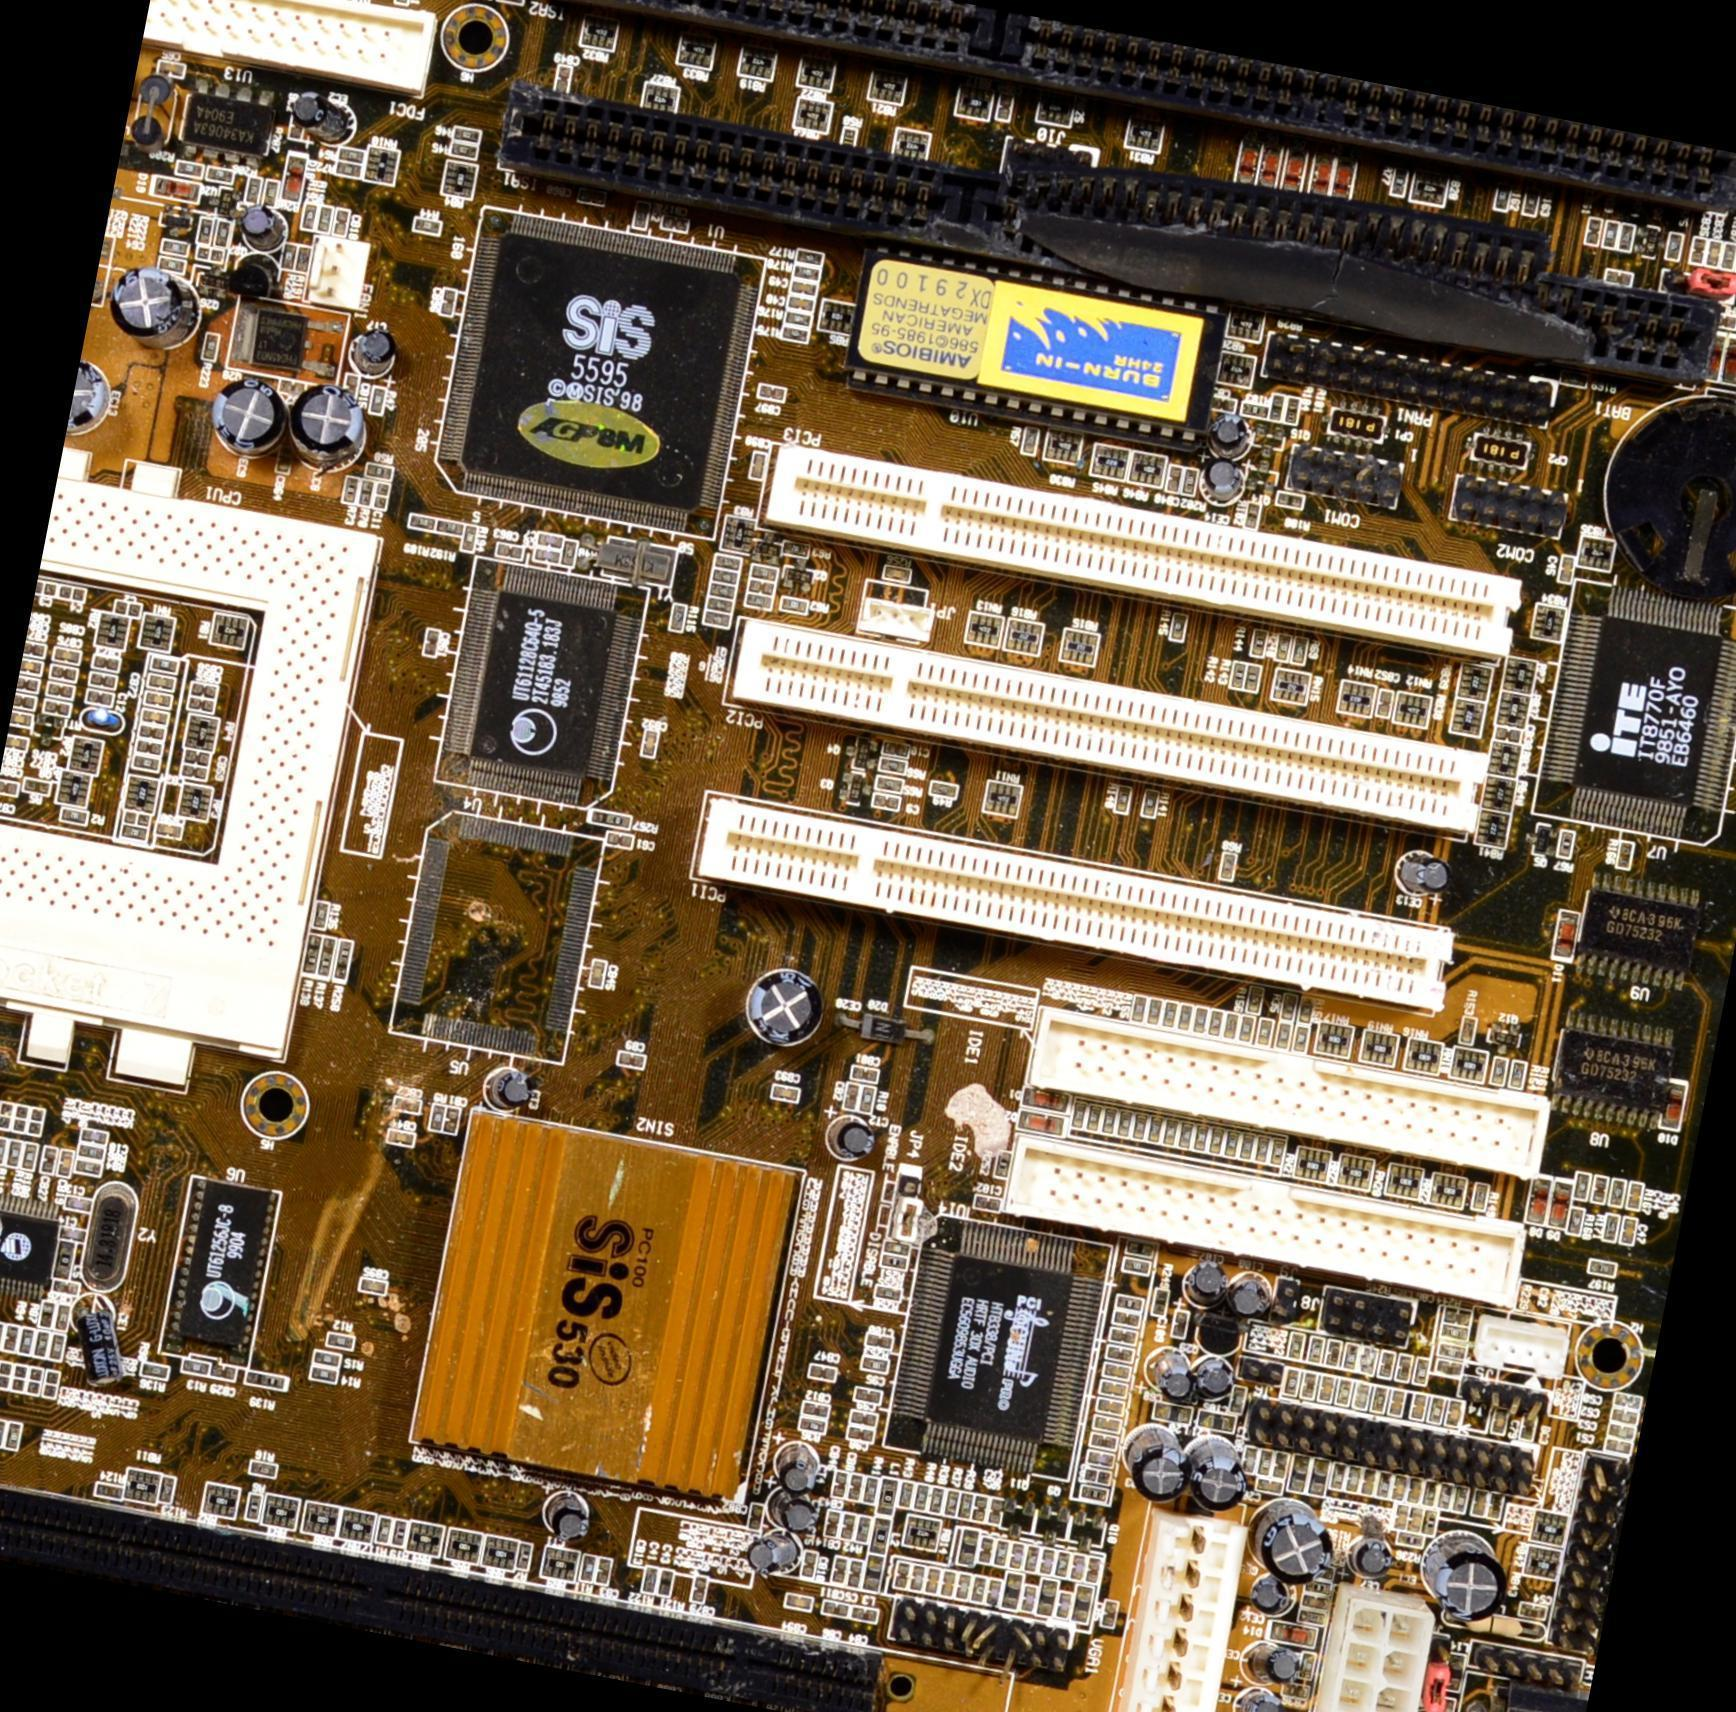Capacitor: (820, 1593, 858, 1623), (56, 580, 92, 606), (638, 722, 664, 761), (187, 692, 224, 716), (26, 1365, 50, 1404), (355, 1273, 390, 1298), (843, 1601, 880, 1626), (89, 649, 126, 674), (781, 1590, 819, 1613), (52, 642, 89, 666), (5, 730, 39, 755), (848, 1062, 881, 1086), (756, 379, 789, 404), (533, 529, 566, 553), (188, 680, 226, 702), (830, 1466, 853, 1500), (9, 1361, 33, 1395), (788, 290, 821, 314), (83, 685, 117, 708), (783, 1592, 819, 1613), (48, 662, 85, 683), (137, 720, 173, 741), (770, 1081, 801, 1107), (385, 1126, 418, 1149), (828, 1553, 851, 1586), (1618, 1214, 1640, 1248), (179, 763, 213, 785), (615, 1048, 646, 1071), (392, 1093, 423, 1117), (40, 1143, 65, 1175), (588, 956, 609, 992), (1610, 1390, 1643, 1413), (820, 1597, 853, 1619), (421, 623, 442, 655), (880, 738, 913, 760), (783, 308, 813, 331), (0, 773, 24, 803), (841, 1082, 862, 1113), (1601, 1436, 1632, 1458), (42, 1371, 65, 1402), (938, 1569, 960, 1601), (844, 1559, 865, 1590), (531, 546, 563, 568), (494, 540, 526, 562), (604, 829, 635, 852), (156, 822, 187, 843), (147, 673, 183, 691), (1689, 234, 1709, 267), (1608, 1406, 1640, 1427), (46, 682, 78, 702), (131, 754, 165, 775), (34, 577, 59, 603), (11, 1103, 33, 1133), (57, 1147, 78, 1177), (9, 710, 39, 732), (689, 1574, 709, 1606), (144, 691, 175, 711), (0, 1101, 19, 1134), (824, 1507, 842, 1540), (13, 692, 41, 714), (1606, 1423, 1635, 1444), (747, 451, 767, 481), (1376, 687, 1396, 716), (873, 792, 903, 812), (0, 1358, 18, 1392), (185, 749, 216, 768), (1705, 238, 1725, 267), (275, 442, 292, 475), (444, 1106, 463, 1135), (91, 671, 120, 690), (136, 738, 167, 758), (800, 1550, 820, 1577), (23, 639, 50, 660), (989, 1497, 1007, 1528), (27, 1108, 46, 1136), (333, 208, 352, 237), (45, 698, 73, 716), (895, 1559, 912, 1588), (789, 278, 819, 295), (439, 291, 459, 317), (374, 483, 393, 508), (1168, 465, 1186, 494), (142, 709, 171, 726), (20, 657, 45, 675), (972, 1495, 989, 1523), (847, 1473, 864, 1500), (925, 1567, 943, 1595), (17, 675, 44, 693), (596, 1557, 612, 1585), (343, 373, 361, 397)
Connector: (1007, 14, 1735, 236), (505, 0, 1023, 92), (1109, 1511, 1266, 1711), (1304, 1588, 1444, 1711)
IC: (434, 202, 779, 538), (884, 1206, 1133, 1471), (428, 562, 656, 817), (1539, 575, 1735, 856), (162, 1155, 293, 1364), (0, 1172, 68, 1306)
Resistor: (1042, 428, 1094, 471), (1088, 439, 1132, 485), (1574, 533, 1618, 577), (980, 777, 1022, 821), (1456, 660, 1496, 706), (362, 143, 401, 190), (1269, 663, 1311, 705), (1058, 627, 1103, 668), (178, 1357, 243, 1384), (1122, 116, 1166, 153), (1337, 679, 1378, 719), (964, 608, 1006, 649), (123, 1467, 165, 1506), (795, 56, 839, 94), (676, 36, 720, 73), (1002, 617, 1044, 656), (1128, 451, 1167, 490), (1395, 692, 1435, 729), (1450, 697, 1488, 736), (737, 47, 777, 83), (539, 1543, 576, 1582), (441, 160, 477, 198), (867, 70, 907, 105), (580, 18, 619, 52), (721, 519, 757, 554), (147, 648, 187, 676), (586, 807, 635, 830), (1173, 1117, 1198, 1155), (19, 774, 58, 800), (666, 601, 691, 638), (1252, 1014, 1277, 1052), (4, 1141, 31, 1176), (1489, 1054, 1511, 1091), (778, 593, 811, 619), (5, 1419, 30, 1453), (1249, 1131, 1269, 1172), (1268, 1133, 1292, 1170), (176, 156, 211, 181), (57, 804, 93, 827), (1167, 607, 1189, 644), (1112, 780, 1134, 818), (1131, 1110, 1154, 1144), (794, 246, 828, 270), (1175, 1002, 1197, 1038), (1159, 1115, 1183, 1148), (1235, 1131, 1260, 1163), (1020, 426, 1043, 460), (246, 1372, 287, 1390), (1140, 787, 1162, 822), (952, 1572, 975, 1604), (119, 823, 155, 844), (310, 1347, 343, 1369), (982, 1578, 1003, 1611), (656, 1567, 677, 1600), (856, 1513, 876, 1547), (1273, 631, 1293, 665), (1145, 1112, 1166, 1143), (1566, 1205, 1588, 1237), (968, 1575, 990, 1607), (325, 1331, 358, 1352), (248, 1460, 280, 1480), (162, 235, 194, 255), (341, 474, 361, 506), (1246, 983, 1267, 1016), (1022, 1542, 1044, 1572), (1292, 1026, 1314, 1055), (943, 1487, 962, 1520), (1100, 1105, 1120, 1136), (1052, 1549, 1072, 1580), (1237, 1014, 1257, 1045), (898, 1477, 918, 1510), (138, 1361, 171, 1380), (412, 216, 441, 238), (460, 522, 479, 555), (1557, 828, 1576, 860), (1459, 1016, 1478, 1049), (1279, 991, 1298, 1024), (1085, 1102, 1106, 1132), (1071, 1101, 1092, 1130), (1037, 1548, 1057, 1577), (640, 1565, 660, 1594), (336, 145, 366, 164), (780, 326, 809, 346), (279, 242, 300, 272), (876, 755, 907, 776), (1146, 995, 1167, 1025), (1220, 1011, 1240, 1041), (157, 255, 192, 273), (1224, 1127, 1244, 1158), (428, 1101, 447, 1132), (929, 1483, 947, 1515), (957, 1490, 976, 1521), (862, 1476, 881, 1506), (0, 1415, 15, 1453), (316, 202, 335, 233), (201, 331, 220, 362), (872, 775, 903, 794), (1068, 1554, 1088, 1582), (1228, 662, 1249, 690), (1275, 1022, 1296, 1051), (1128, 997, 1148, 1026), (1208, 1124, 1227, 1154), (158, 1473, 177, 1504), (452, 127, 481, 146), (793, 265, 823, 284), (295, 245, 313, 275), (369, 385, 388, 416), (1627, 1179, 1644, 1211), (307, 1367, 339, 1385), (1602, 1214, 1621, 1241), (994, 1540, 1013, 1568), (410, 512, 438, 532), (1510, 1062, 1529, 1089), (1160, 1000, 1179, 1028), (1194, 1126, 1210, 1155), (23, 1142, 41, 1171), (910, 1565, 927, 1594), (448, 143, 479, 160), (1292, 637, 1309, 666), (860, 1086, 878, 1113), (95, 1481, 123, 1501), (1297, 995, 1315, 1022), (1472, 1183, 1490, 1212), (915, 1482, 932, 1510), (515, 1544, 532, 1572), (1182, 467, 1200, 496), (1251, 627, 1268, 656), (1220, 852, 1238, 880), (1193, 1006, 1210, 1034), (839, 1513, 855, 1542), (1286, 397, 1302, 426), (360, 477, 376, 507), (1117, 1112, 1134, 1138), (3, 1324, 20, 1352), (18, 1328, 35, 1355), (1009, 1543, 1026, 1569), (580, 1555, 597, 1582), (301, 204, 319, 231), (1268, 396, 1286, 423), (1720, 238, 1735, 270), (436, 519, 464, 535), (34, 1331, 51, 1356), (1207, 1009, 1223, 1037), (206, 169, 234, 184), (0, 1136, 12, 1167), (50, 1336, 66, 1359), (0, 1321, 6, 1349), (495, 0, 526, 5)
